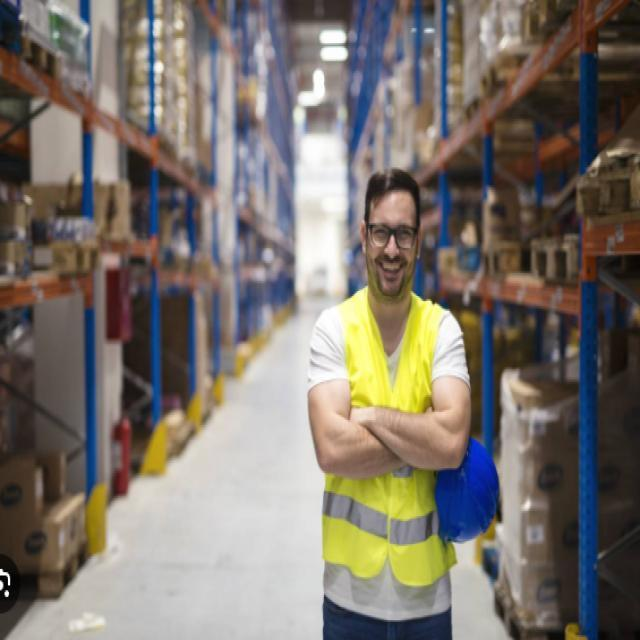vest: (314, 288, 462, 592)
